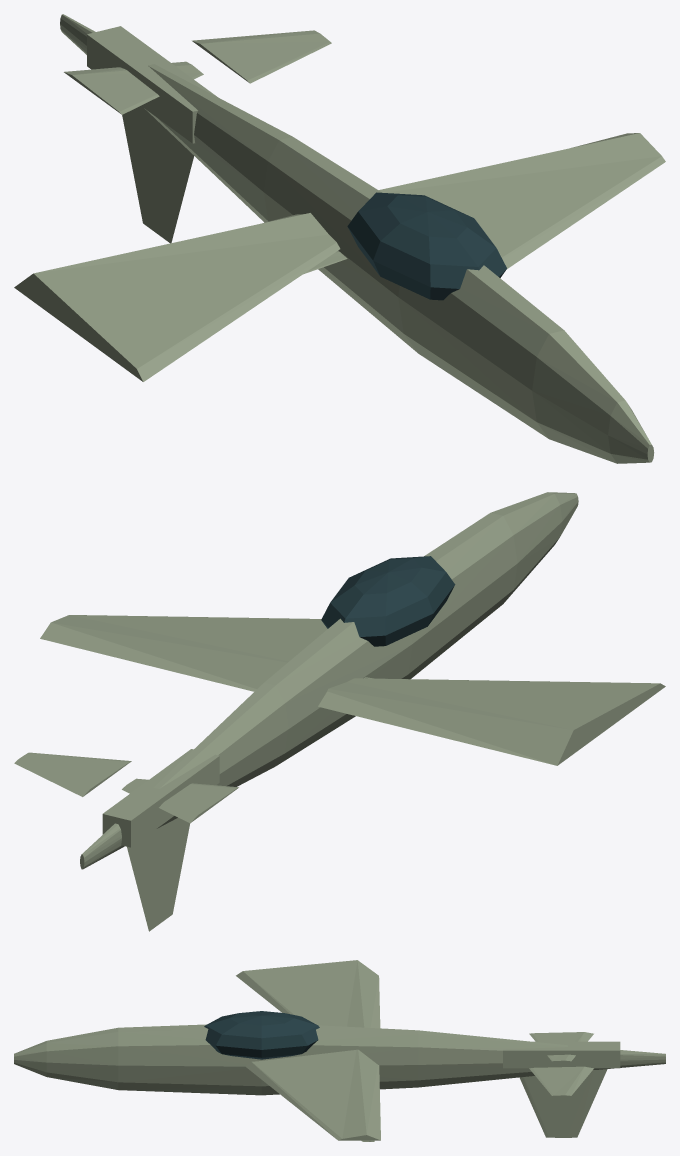
3 renders of one model, top to bottom at view 1: azimuth 30°, elevation 25°; view 2: azimuth 150°, elevation 25°; view 3: azimuth 270°, elevation 25°, orthographic. The views are drawn at different scales.
Parts seen in each view (by area): view 1: Fuselage, Wing_L, Wing_R, Cockpit, Rudder, TailBoom, Elevator_R, Elevator_L; view 2: Fuselage, Wing_L, Wing_R, Cockpit, Rudder, TailBoom, Elevator_R, Elevator_L; view 3: Fuselage, Wing_R, Wing_L, Cockpit, Rudder, TailBoom, Elevator_R, Elevator_L.
Part boxes in pixels (x1,y1,x2,y2): Fuselage: (60,14,654,463); Wing_L: (14,213,340,381); Wing_R: (379,133,665,268); Cockpit: (347,192,506,300); Rudder: (122,106,193,243); TailBoom: (87,26,216,143); Elevator_R: (192,30,331,83); Elevator_L: (64,61,203,114); Fuselage: (80,492,578,869); Wing_L: (318,678,665,765); Wing_R: (40,615,327,691); Cockpit: (321,556,455,646); Rudder: (127,817,190,931); TailBoom: (102,749,219,847); Elevator_R: (14,752,131,796); Elevator_L: (122,778,238,823); Fuselage: (14,1024,665,1095); Wing_R: (245,1049,380,1140); Wing_L: (236,960,380,1028); Cockpit: (204,1011,319,1059); Rudder: (519,1069,607,1137); TailBoom: (503,1041,620,1068); Elevator_R: (529,1066,593,1095); Elevator_L: (529,1032,593,1061).
Bounding box in the file's own units: 9.07 × 3.1 × 15.03.
